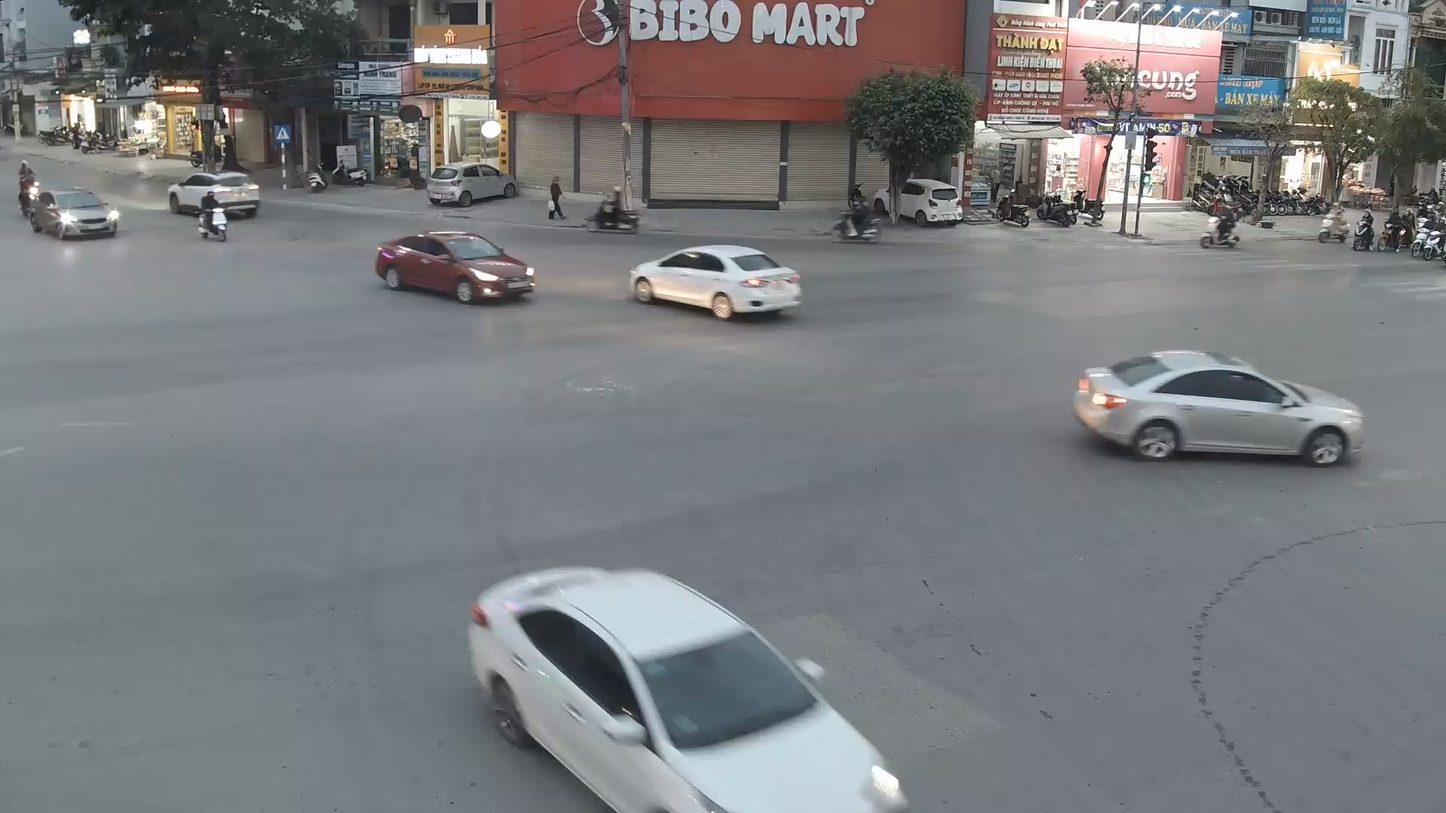car: (465, 566, 897, 812), (1070, 347, 1369, 468), (627, 242, 804, 321), (372, 228, 536, 307), (31, 185, 121, 242), (167, 169, 263, 219)
motorbike: (830, 190, 884, 244), (199, 189, 229, 242), (15, 160, 39, 219)
